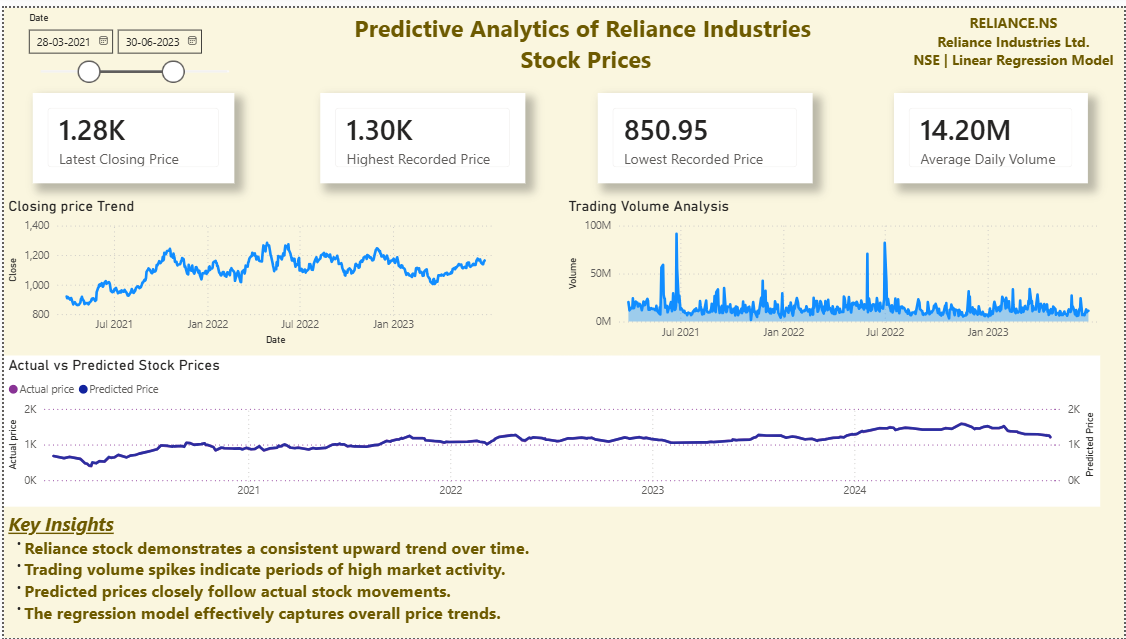

This screenshot's page, from the dashboard's own definition file:
{"tool":"powerbi","page":{"name":"Page 1","canvas":[1280,720],"ordinal":0},"visuals":[{"type":"cardVisual","title":"Latest Closing Price","fields":{"Data":["Max(reliance_cleaned_data (2).Close)"]},"box":[32.9,97.1,230,102.9],"z":0},{"type":"cardVisual","fields":{"Data":["Max(reliance_cleaned_data (2).High)"]},"box":[361.4,97.1,234.3,102.9],"z":1000},{"type":"cardVisual","fields":{"Data":["Min(reliance_cleaned_data (2).Low)"]},"box":[678.6,97.1,245.7,102.9],"z":2000},{"type":"cardVisual","fields":{"Data":["Avg(reliance_cleaned_data (2).Volume)"]},"box":[1017.1,97.1,221.4,102.9],"z":3000},{"type":"lineChart","title":"Closing price Trend","fields":{"Category":["reliance_cleaned_data (2).Price"],"Y":["Avg(reliance_cleaned_data (2).Close)"]},"box":[0,215.7,578.6,174.3],"z":4000},{"type":"areaChart","title":"Trading Volume Analysis","fields":{"Category":["reliance_cleaned_data (2).Price"],"Y":["Sum(reliance_cleaned_data (2).Volume)"]},"box":[640,215.7,628.6,172.9],"z":4001},{"type":"lineChart","title":"Actual vs Predicted Stock Prices","fields":{"Category":["reliance_predictions (1).Date"],"Y":["Avg(reliance_predictions (1).Actual)"],"Y2":["Avg(reliance_predictions (1).Predicted)"]},"box":[0,397.1,1252.9,172.9],"z":4002},{"type":"slicer","fields":{"Values":["reliance_cleaned_data (2).Price"]},"box":[15.7,0,262.9,97.1],"z":4003},{"type":"textbox","box":[348.6,0,632.9,87.1],"z":4004},{"type":"textbox","box":[0,570,827.1,150],"z":4005},{"type":"textbox","box":[1027.1,0,252.9,77.1],"z":4006}]}

Visuals, with their boxes in screenshot pixels (x1, y1, x2, y2), scaled from the page's 1280x720 canvas onto the 1126x639 screenshot:
"Latest Closing Price" cardVisual: rect(29, 86, 231, 178)
cardVisual - Max(reliance_cleaned_data (2).High): rect(318, 86, 524, 178)
cardVisual - Min(reliance_cleaned_data (2).Low): rect(597, 86, 813, 178)
cardVisual - Avg(reliance_cleaned_data (2).Volume): rect(895, 86, 1089, 178)
"Closing price Trend" lineChart: rect(0, 191, 509, 346)
"Trading Volume Analysis" areaChart: rect(563, 191, 1116, 345)
"Actual vs Predicted Stock Prices" lineChart: rect(0, 352, 1102, 506)
slicer - reliance_cleaned_data (2).Price: rect(14, 0, 245, 86)
textbox: rect(307, 0, 863, 77)
textbox: rect(0, 506, 728, 638)
textbox: rect(904, 0, 1125, 68)
